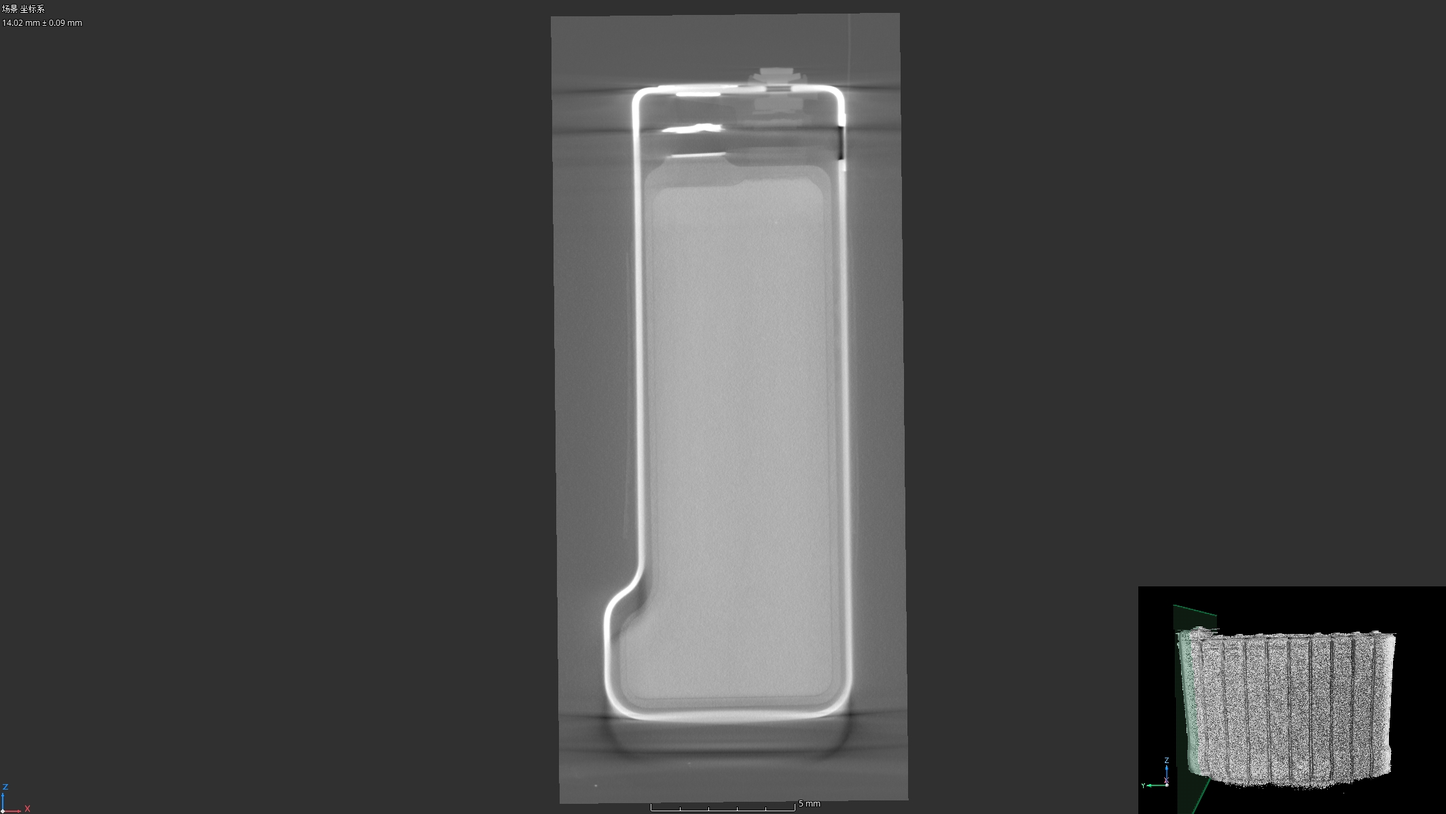light: (769, 218, 780, 227)
